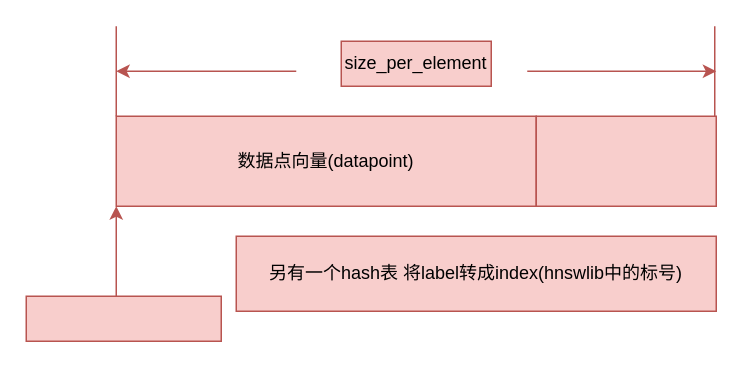
The diagram is 755 pixels wide and 368 high, and some of its shapes have lost their labels. Here are the shapes that lost their labels. From the top down, the centre of each, then its label:
the point at 625,160: 数据点的标号(label)
the point at 123,318: data_ + size_per_element * idx
